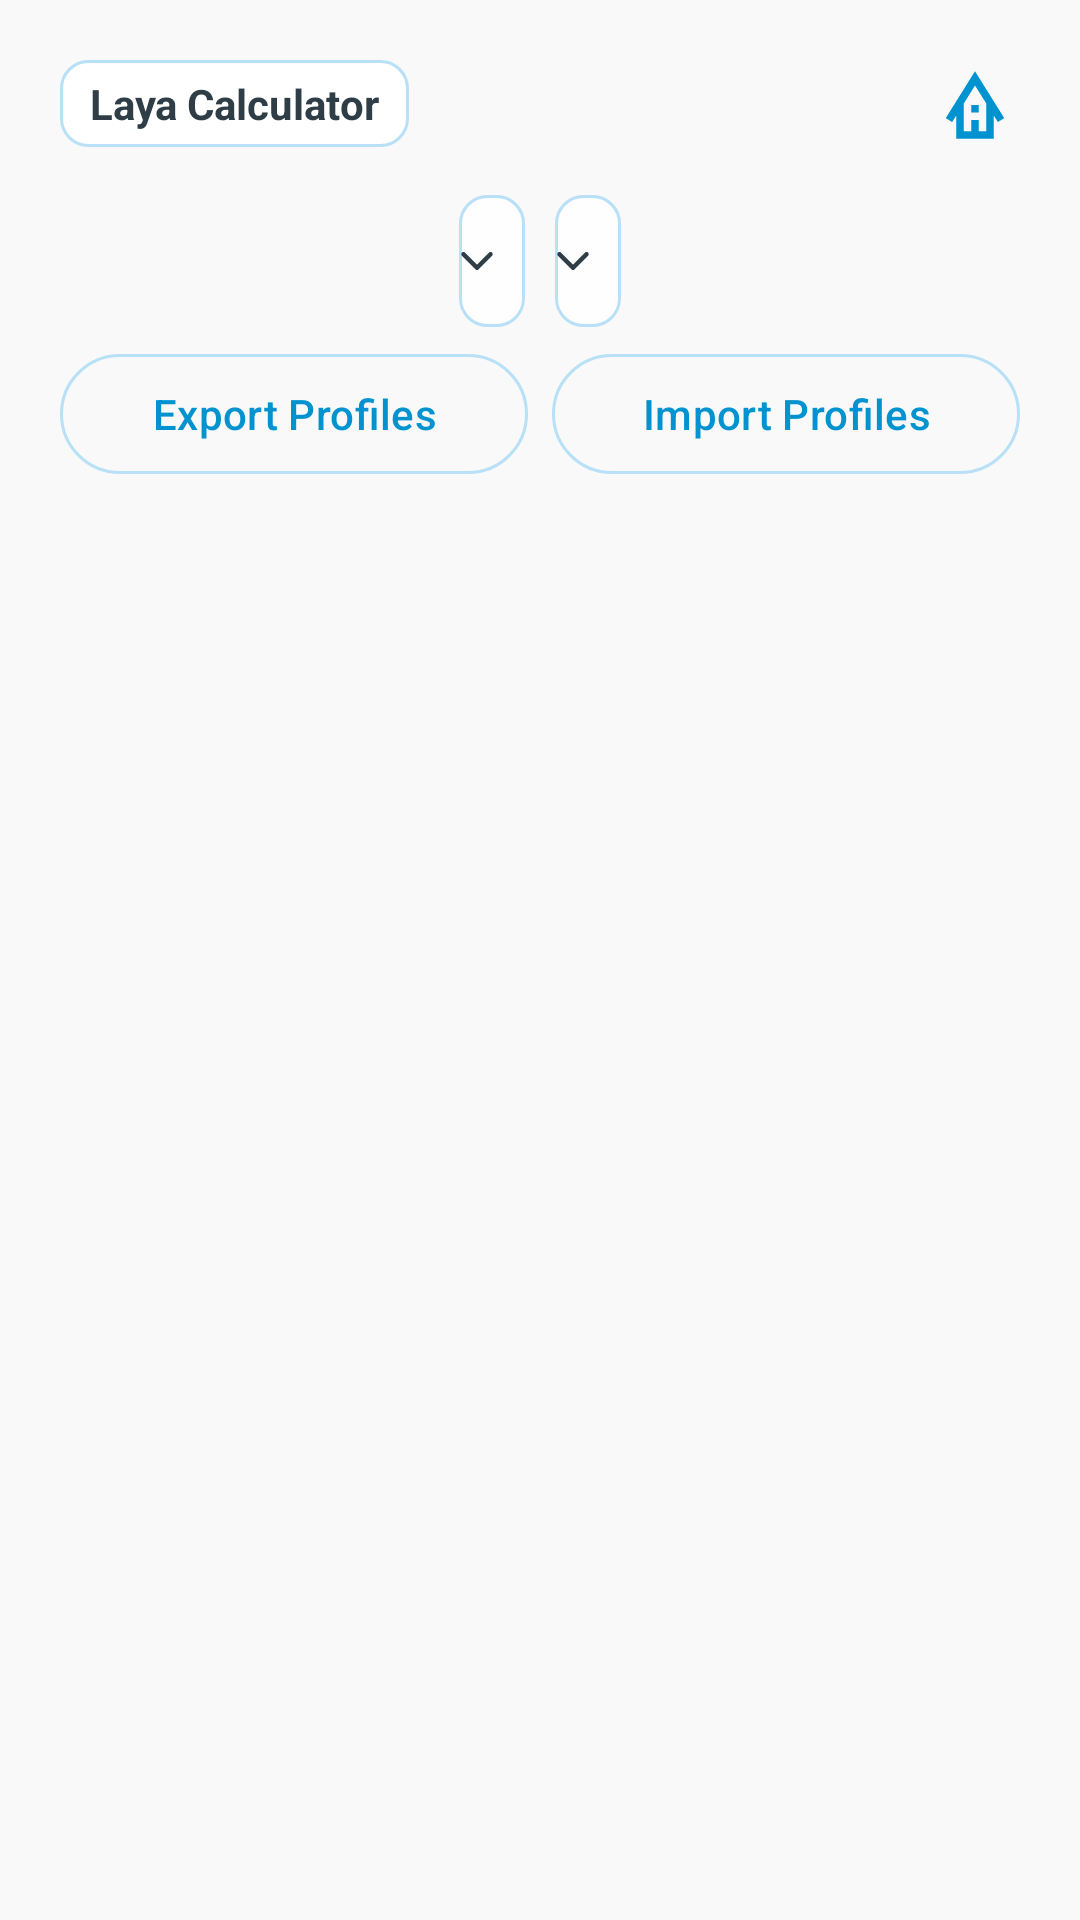

Point at icon controls on the screen. Image size 1080x1920, points as (x,y).
bungalow: (975,105)
